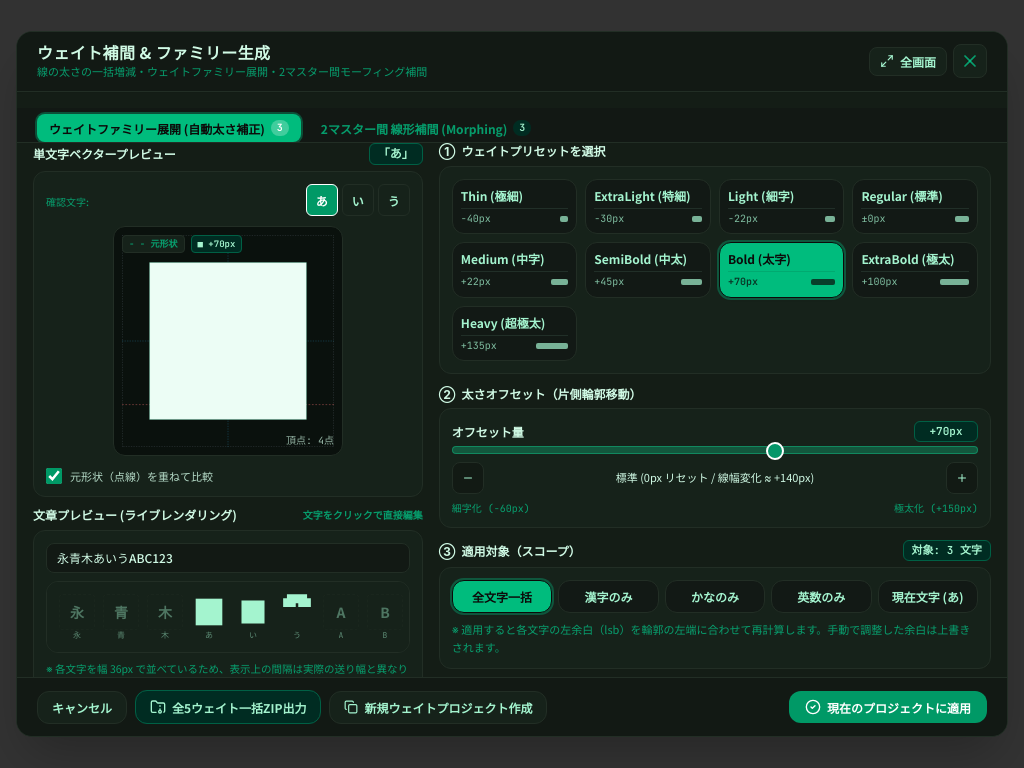
Test case: Weight Interpolation & Family Settings Audit Fixes › WeightInterpolationModal supports pixelData glyphs, clickable sample strip, and Master advanceWidth/same-master guard
The image size is (1024, 768).
Later steps or results of the test are not shown.
Click the button "あ" below "文章プレビュー (ライブレンダリング)" at point(209, 617), box [189,592,229,642]
Click the tab "2マスター間 線形補間 (Morphing) 3" at point(426, 128), box [309,114,543,142]
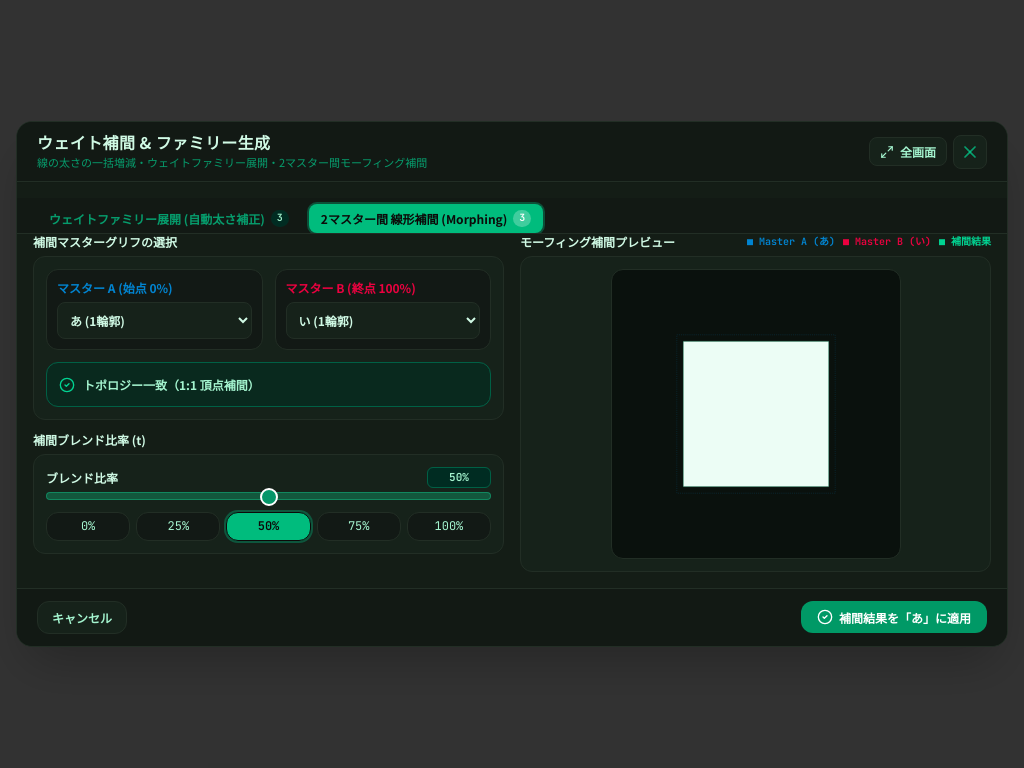
Click the button "補間結果を「あ」に適用" at point(894, 617), box [801,601,987,633]
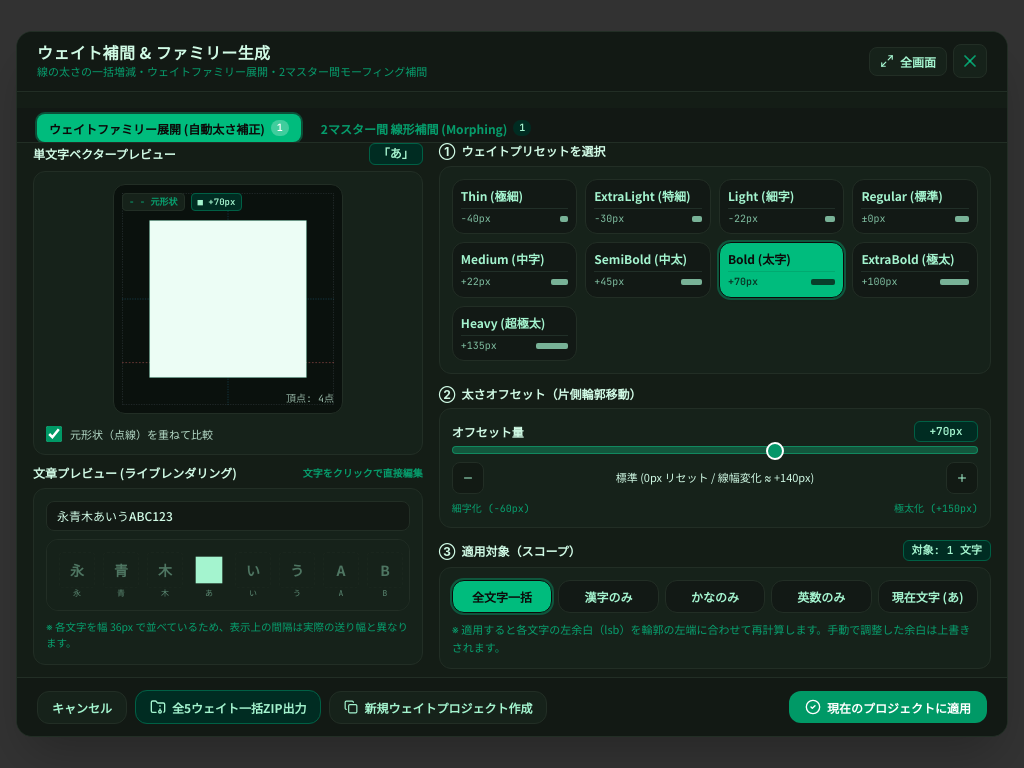
Click the tab "2マスター間 線形補間 (Morphing) 1" at point(426, 128), box [309,114,543,142]
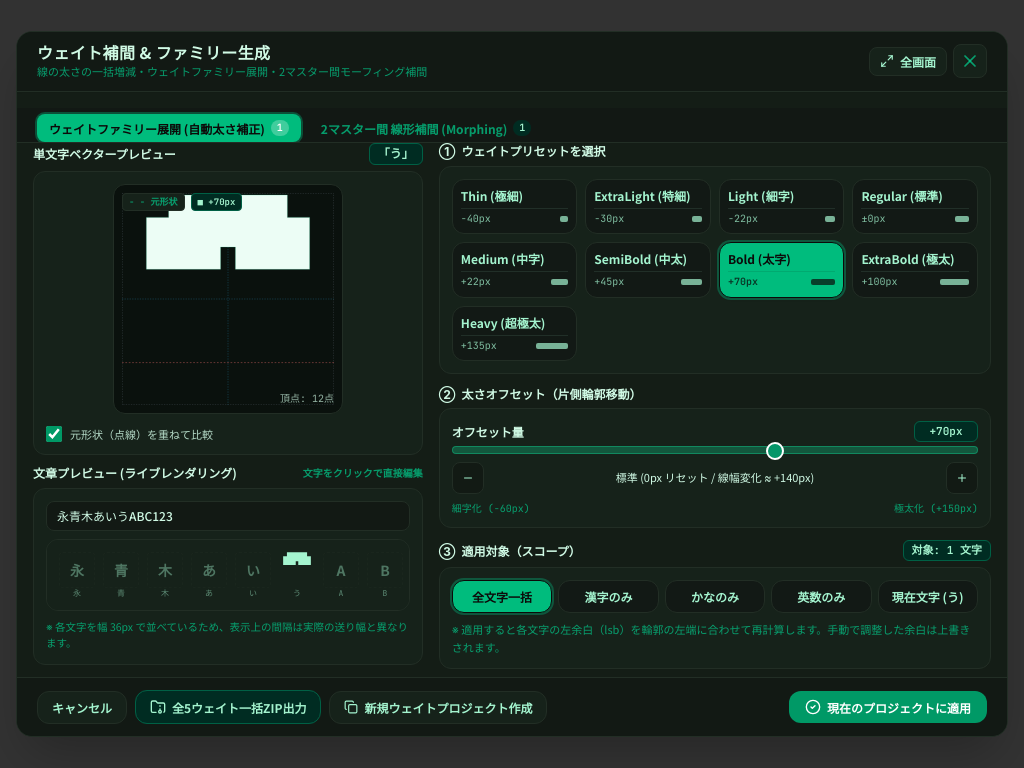
Result: the text "対象: 1 文字" is shown at [903,540,991,561]
